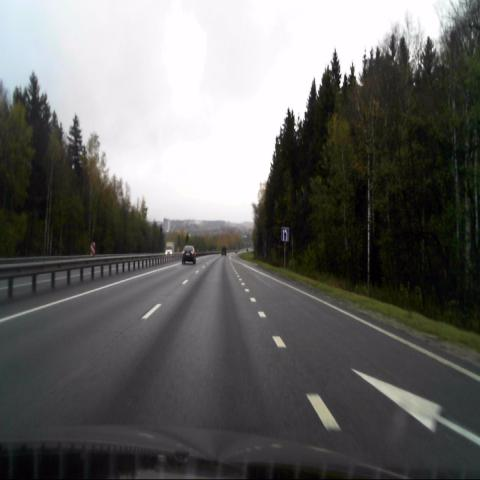5_15_5: (281, 228, 289, 241)
